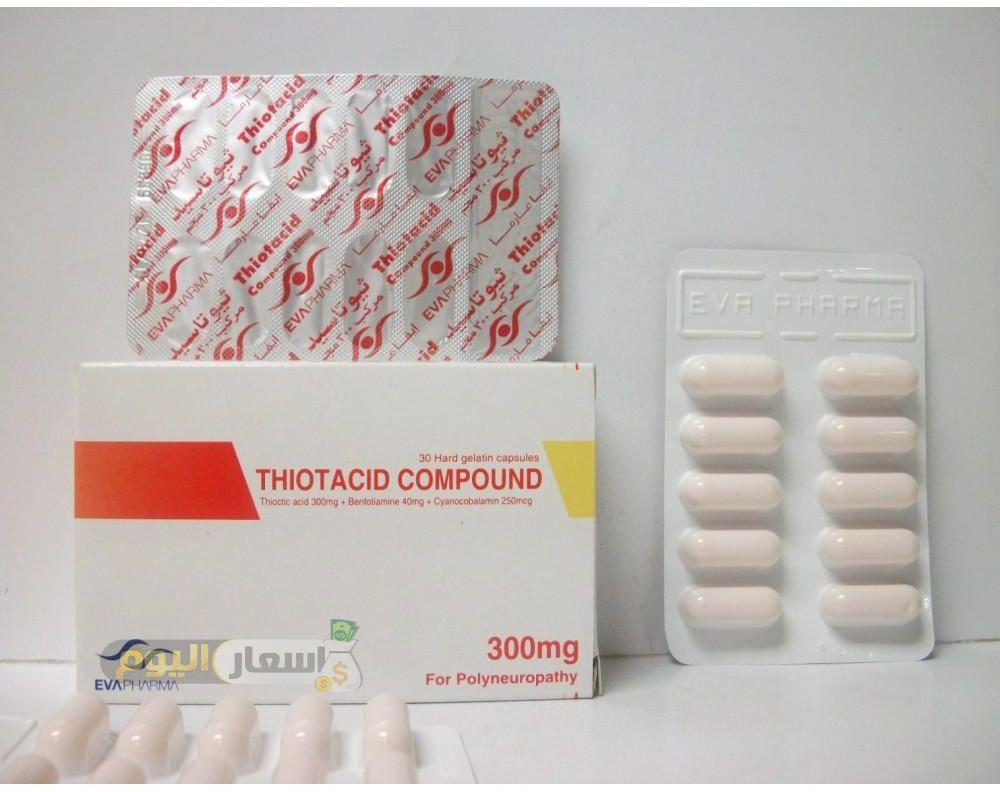Medicine: (62, 352, 610, 718), (126, 64, 568, 362)
